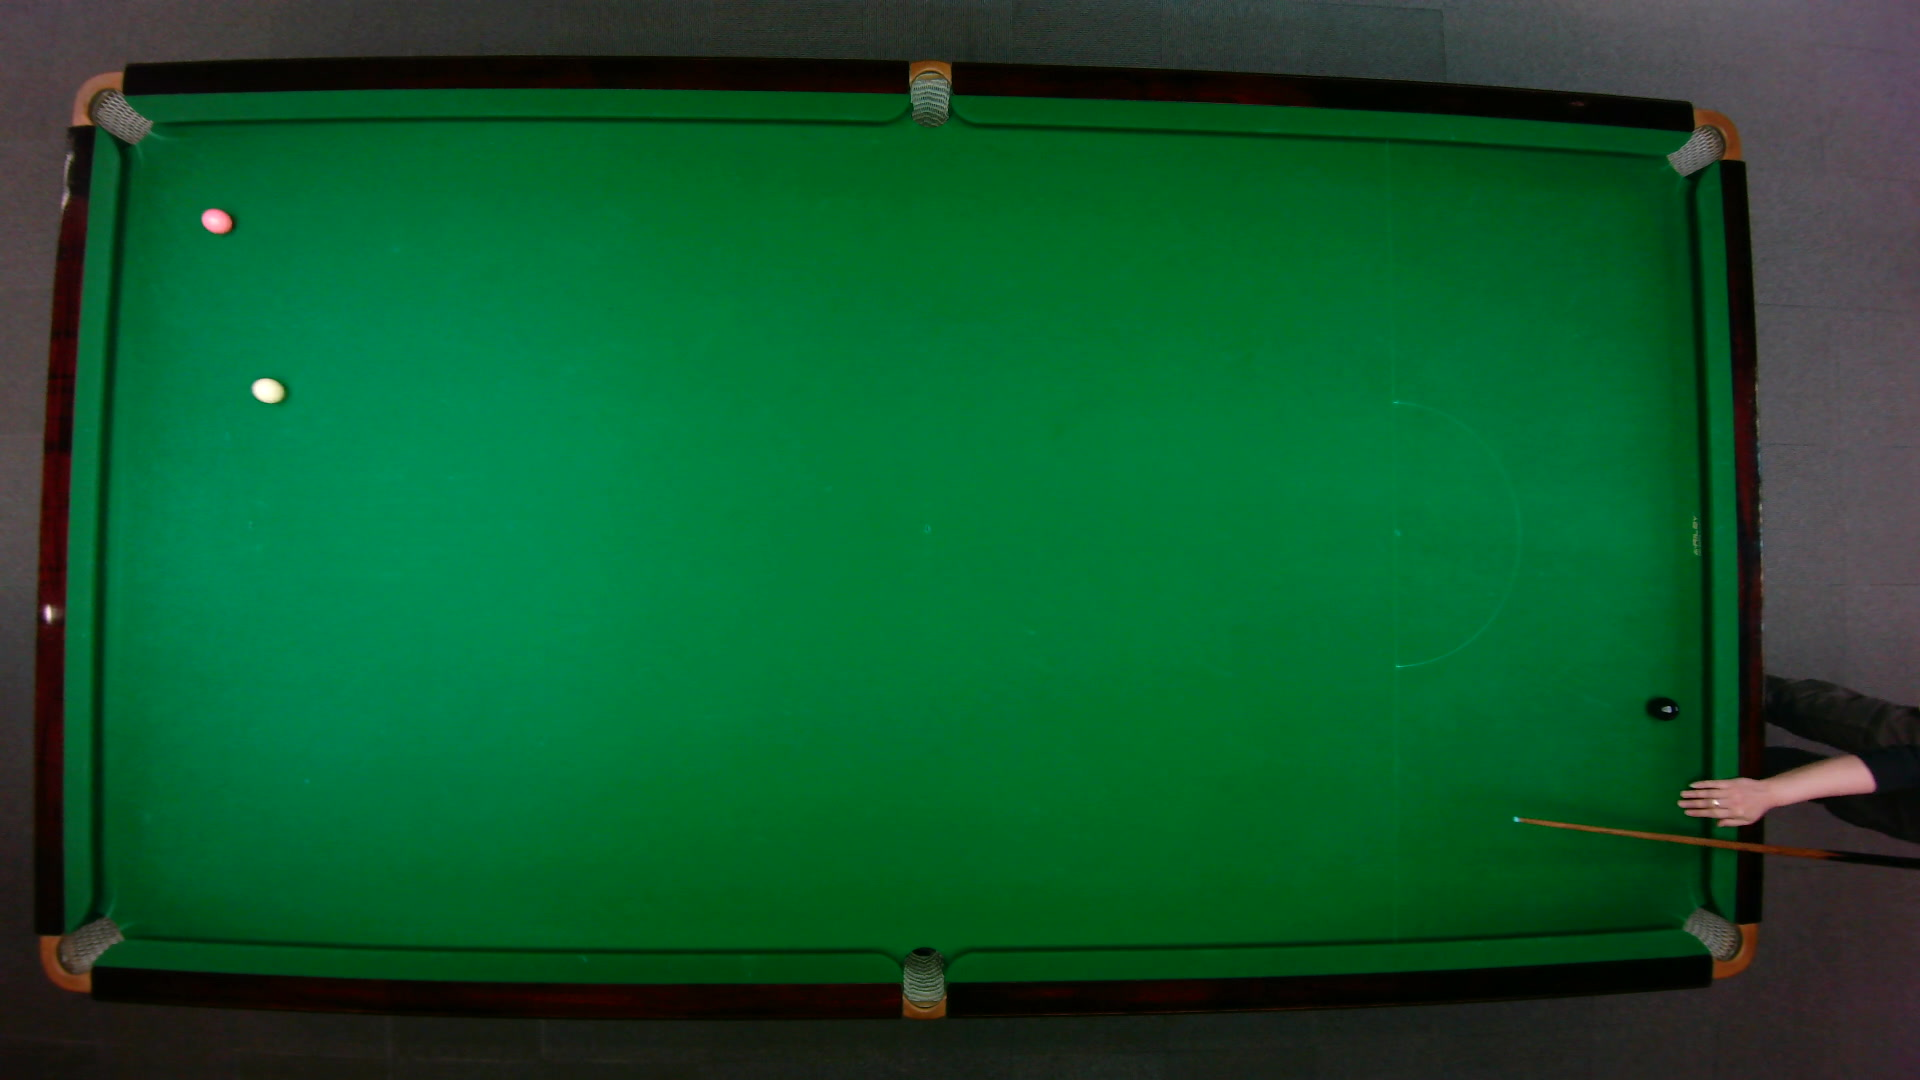bag: (37, 914, 125, 992), (69, 69, 153, 144), (1679, 905, 1756, 978), (1663, 107, 1742, 177), (901, 944, 944, 1021), (909, 57, 949, 128)
black: (1648, 696, 1680, 720)
cue: (1513, 814, 1920, 872)
pink: (199, 206, 233, 233)
white: (248, 375, 287, 404)
zone: (1390, 400, 1520, 669)
